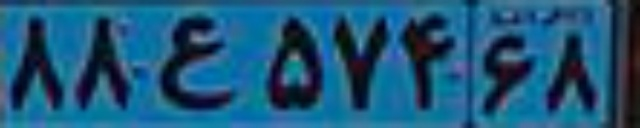4: (400, 13, 454, 110)
5: (264, 16, 325, 109)
6: (480, 34, 535, 116)
7: (332, 14, 393, 110)
8: (73, 16, 132, 109), (7, 15, 64, 110), (545, 34, 599, 112)
ain: (157, 15, 236, 109)
